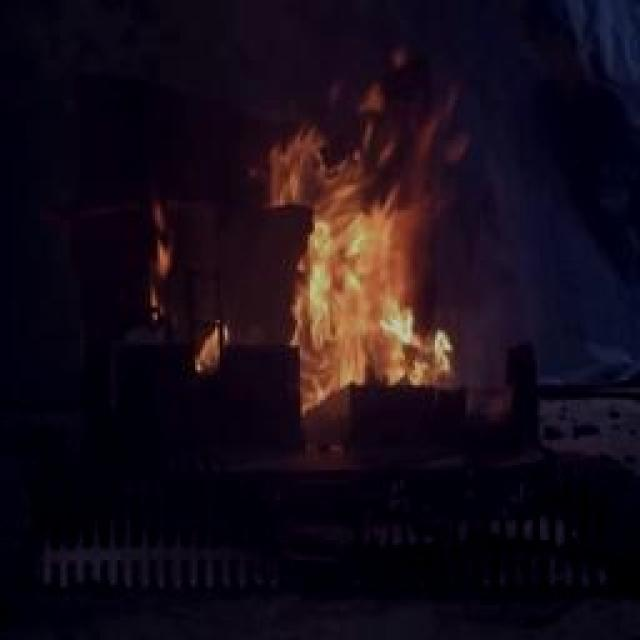fire: (142, 36, 500, 426)
